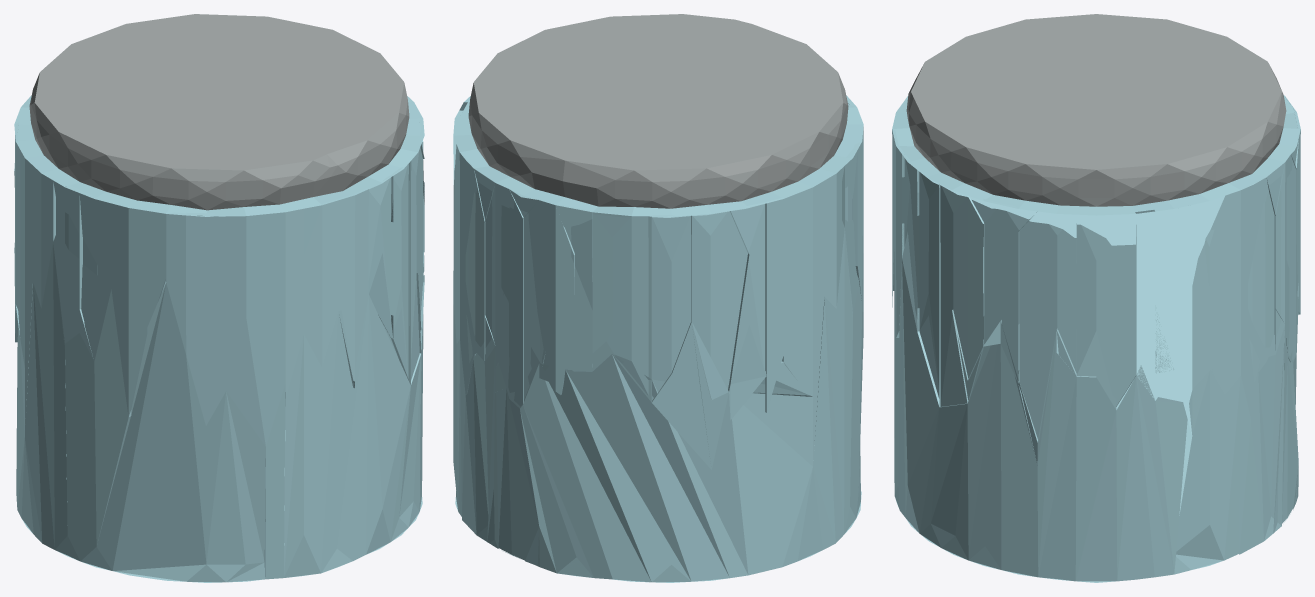
The model's file is brokenjar.fbx.
3 views of the same model, side by side, from view 1: azimuth 30°, elevation 25°; view 2: azimuth 150°, elevation 25°; view 3: azimuth 270°, elevation 25° (orthographic).
Parts seen in each view (by area): view 1: Cylinder.001, Cylinder.002; view 2: Cylinder.001, Cylinder.002; view 3: Cylinder.001, Cylinder.002.
Part boxes in pixels (x1,y1,x2,y2): Cylinder.001: (14, 14, 424, 540); Cylinder.002: (16, 242, 423, 582); Cylinder.001: (453, 14, 863, 577); Cylinder.002: (453, 228, 863, 582); Cylinder.001: (892, 14, 1300, 515); Cylinder.002: (894, 249, 1298, 581).
Bounding box in the file's own units: 1000 × 1099 × 1001.
